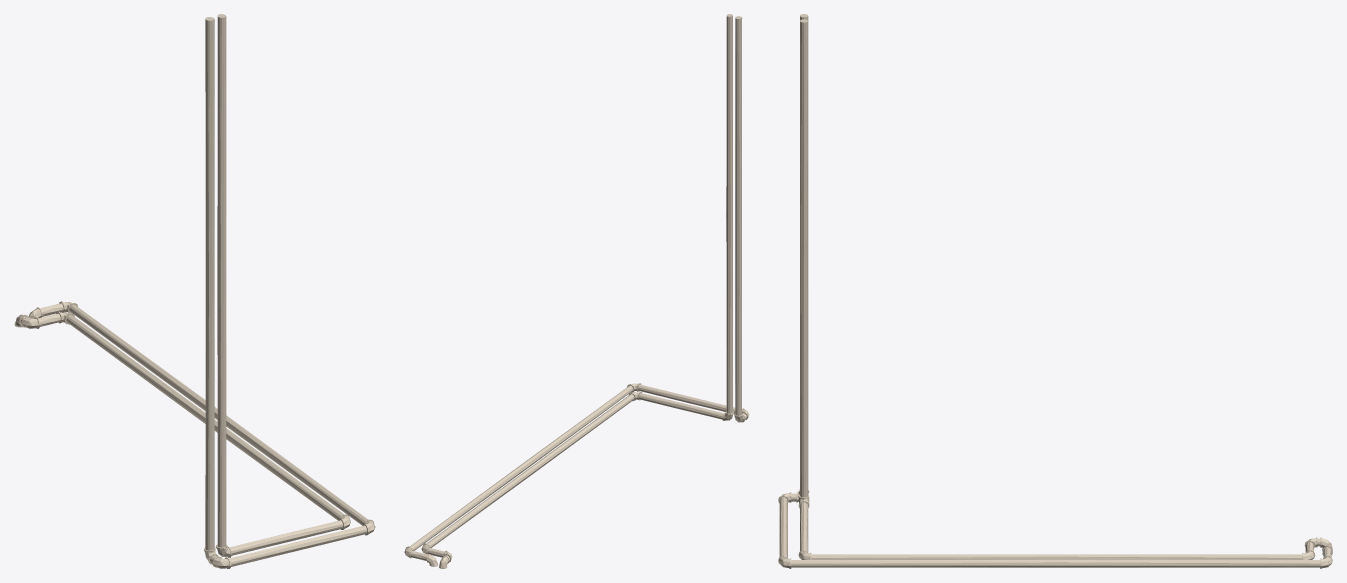
Rendered from detail-rainwater-2-1f.glb.
3 renders of one model, left to right at view 1: azimuth 30°, elevation 25°; view 2: azimuth 150°, elevation 25°; view 3: azimuth 270°, elevation 25°, orthographic. The views are drawn at different scales.
Bounding box in the file's own units: 2.31 × 7.42 × 7.63.
